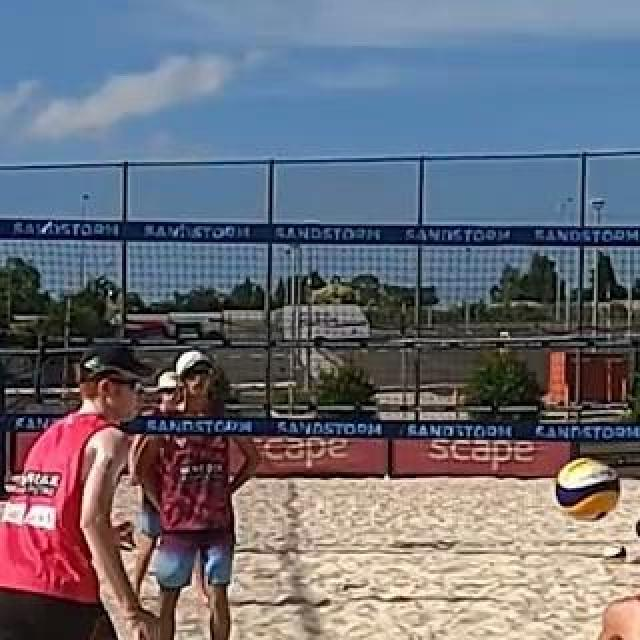volleyball: (556, 459, 620, 521), (604, 544, 626, 568)
